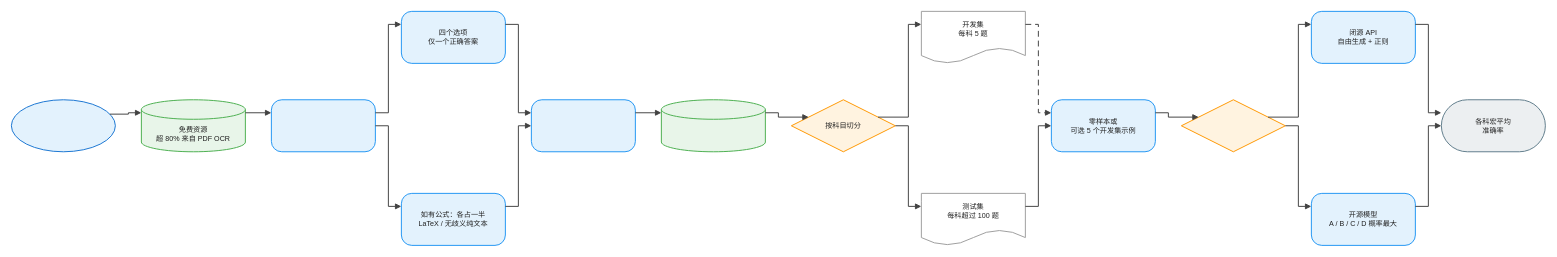
This 1557x257 diagram has some shape labels left out. The box of each missing label's shape, as (x1, y1, x2, y2) in pixels:
11,528 道题 67 个科目: (661, 99, 766, 152)
4 名标注员 约 250 小时: (11, 99, 116, 152)
按模型访问方式: (1181, 99, 1286, 152)
每科抽检 5% 估计噪声约 2%: (531, 99, 636, 152)
非公开材料 模拟题 + 竞猜节目: (271, 99, 376, 152)
